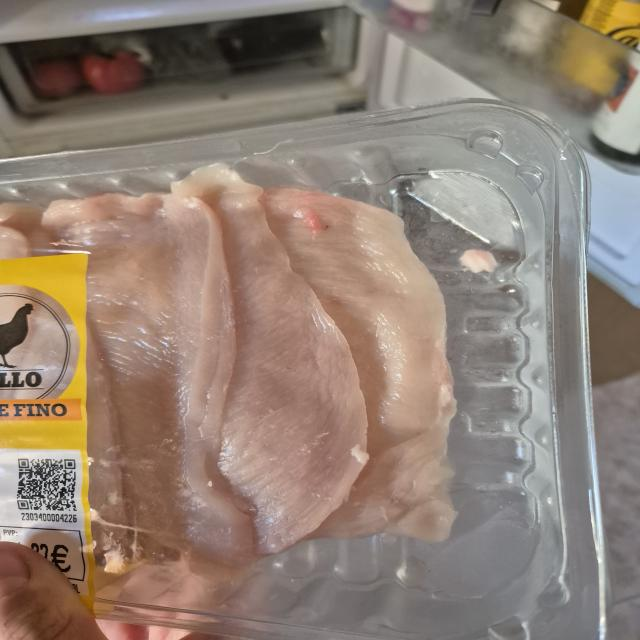pechuga de pollo: (39, 190, 254, 568), (157, 179, 365, 556), (264, 178, 466, 557)
